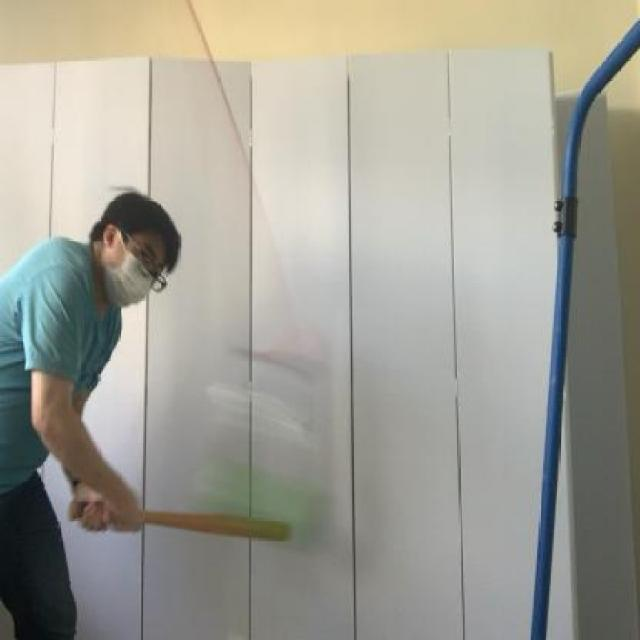baseball: (198, 449, 345, 558)
